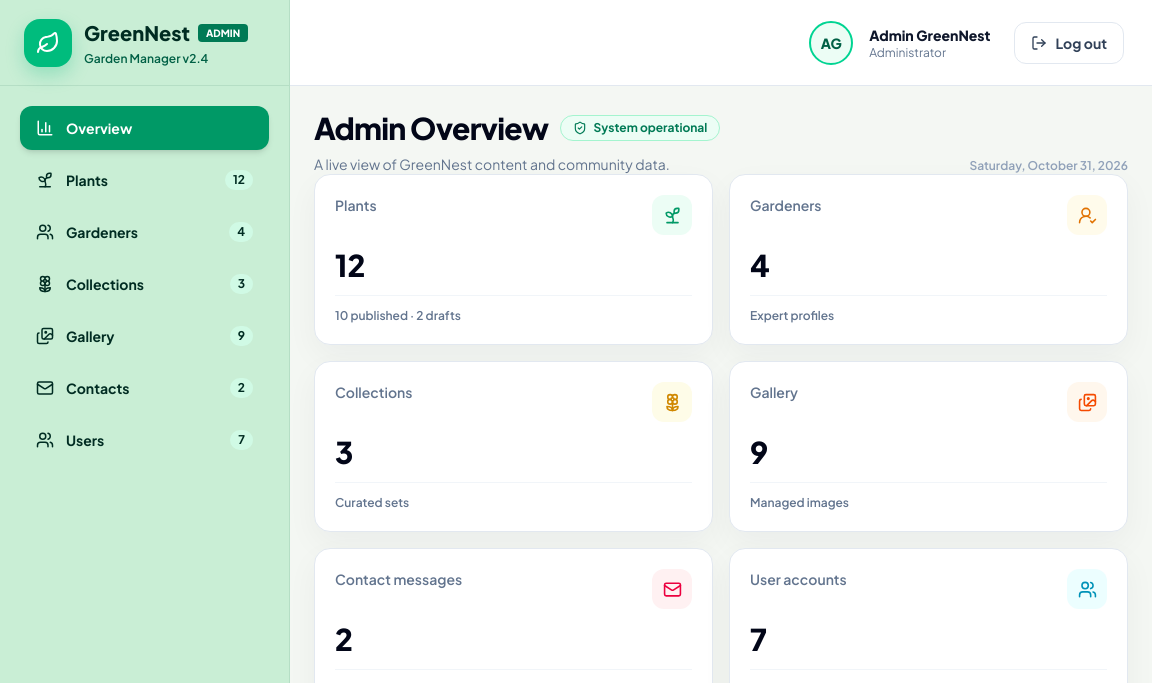
Test: Admin dashboard › supports every care level used by the merged plant catalog
The width and height of the screenshot is (1152, 683).
What coordinates should you click on to do the following:
click the button "Plants 12"
I would click on:
 (144, 180)
Its box is [20,158,269,202].
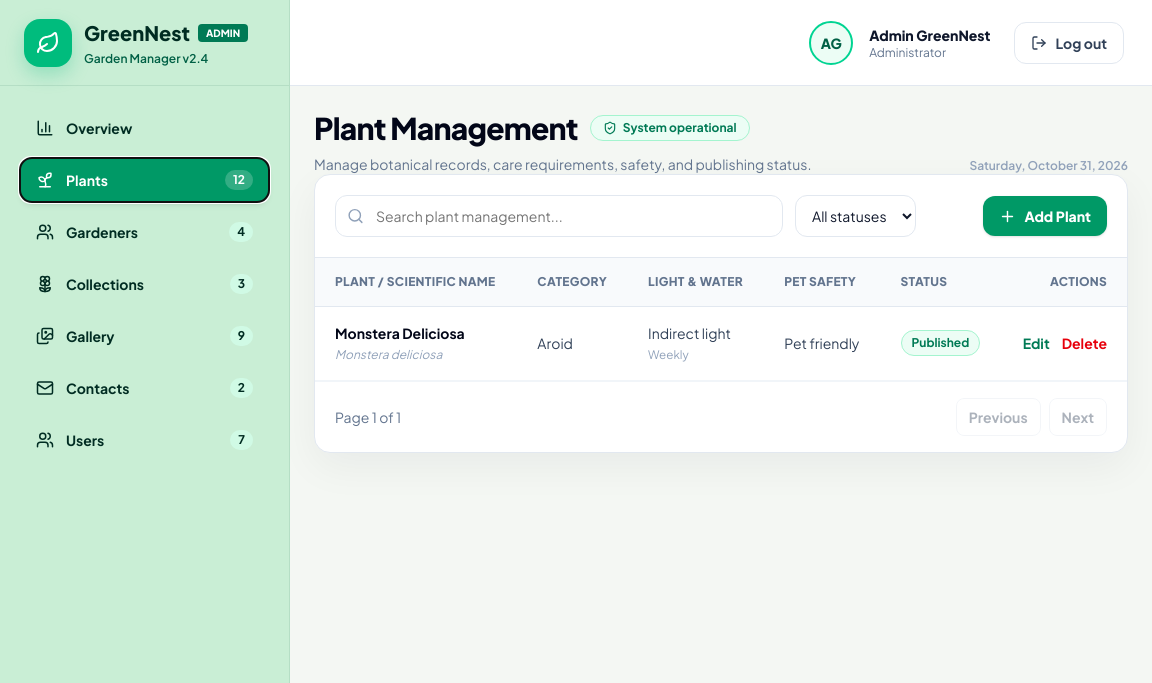
What coordinates should you click on to do the following:
click the button "Add Plant"
I would click on:
 (1045, 216)
Its box is [984,196,1107,236].
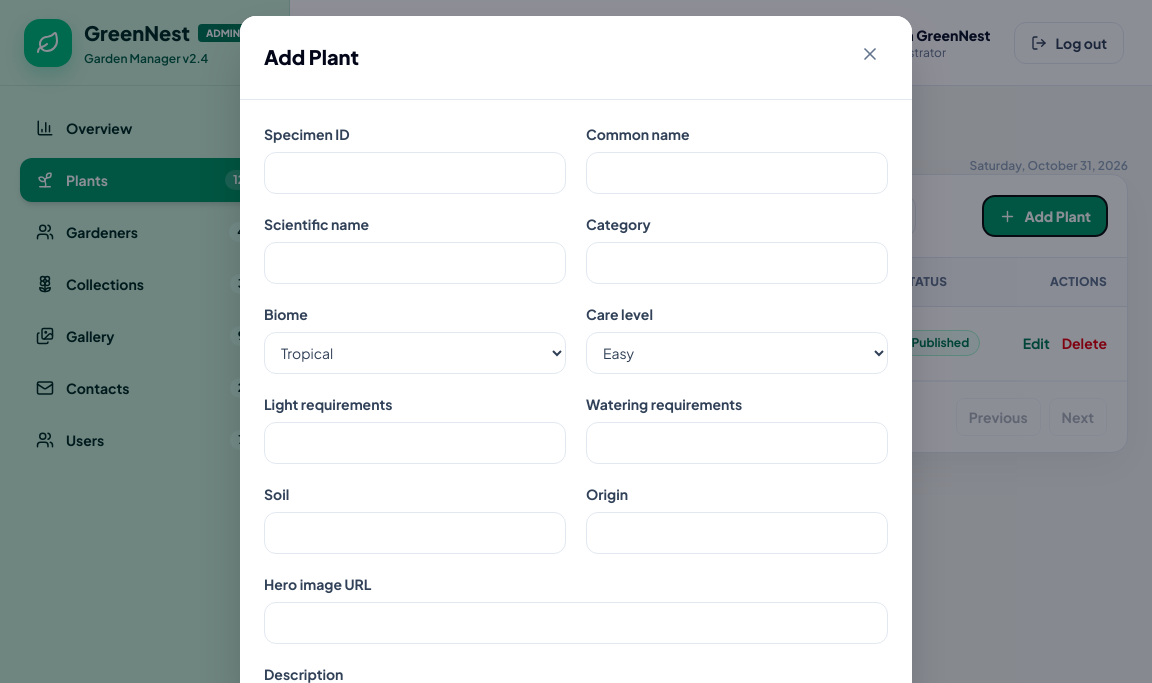
Expected: the dropdown labelled "Care level" shows "Easy", [586,332,888,374]
